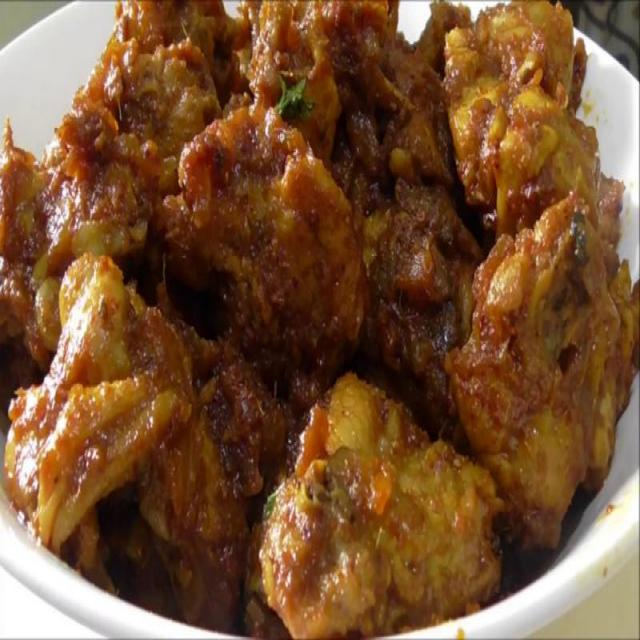chicken: (2, 8, 639, 640)
